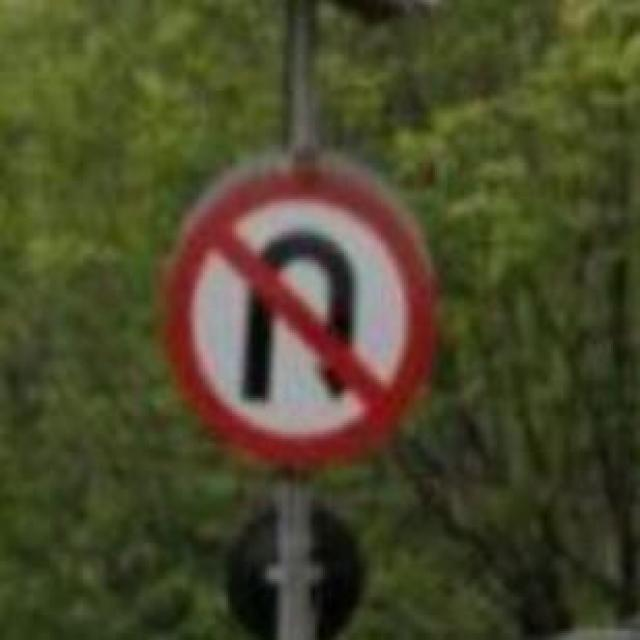traffic sign: (168, 161, 427, 471)
